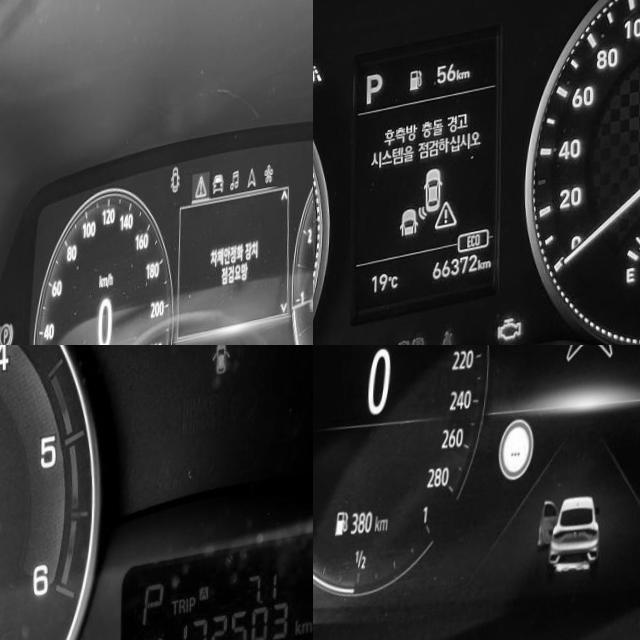Doors: (211, 348, 232, 386), (171, 175, 182, 203)
LaneCenteringOff: (313, 68, 322, 95)
